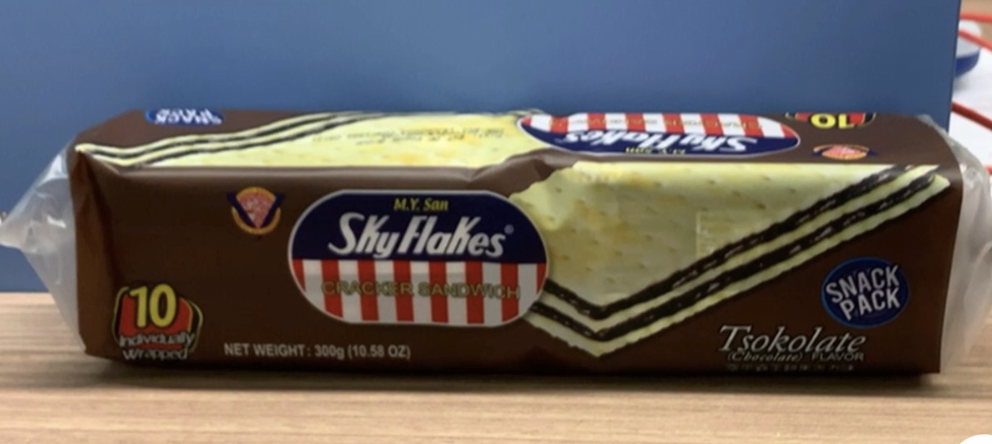crackers_150g: (102, 114, 927, 367)
